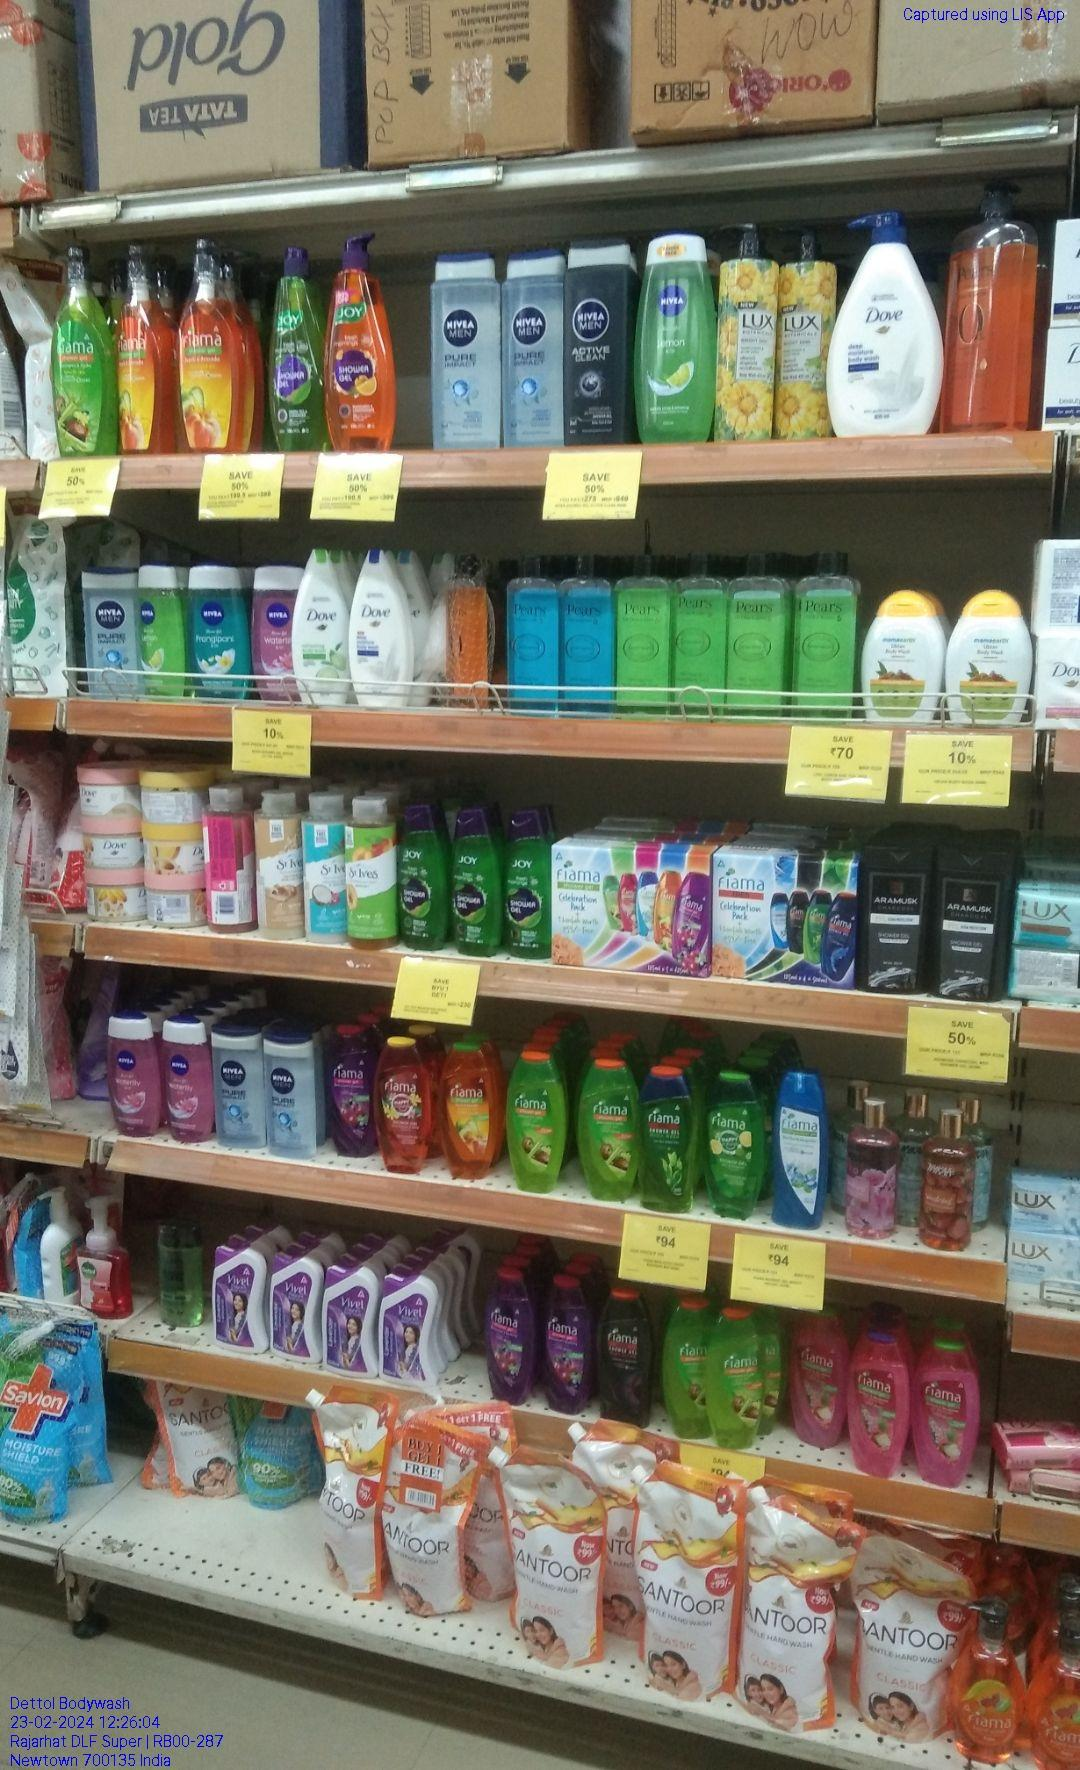Fiama_Shower_Gel_Lemongrass_and_Jojoba_250ML: (507, 1052, 563, 1193), (583, 1058, 635, 1202), (711, 1307, 764, 1448), (666, 1296, 708, 1439)
Fiama_Shower_Gel_Patchouli_and_Macadamia_250ML: (913, 1336, 975, 1487), (846, 1326, 902, 1480), (785, 1305, 841, 1444)
Fiama_Shower_Gel_Peach_and_Avocado_250ML: (441, 1039, 501, 1180)
Joy_Shower_Gel_Mint_and_Eucalyptus_250ML: (454, 803, 502, 957), (503, 805, 550, 958), (401, 796, 443, 949)
Nivea_Shower_Gel_Frangipani_and_Oil_250ML: (188, 563, 248, 700)
Nivea_Shower_Gel_Lemon_and_Oil_250ML: (634, 226, 708, 446), (142, 563, 183, 699)
Nivea_Shower_Gel_Waterlily_and_Oil_250ML: (249, 565, 297, 703), (105, 1018, 158, 1139), (161, 1018, 210, 1139)
Pears_Pure_Glycerin_and_Lemon_Flower_Extracts_Body_Wash_250ML: (793, 552, 855, 722), (726, 549, 782, 714), (617, 554, 672, 717), (674, 550, 725, 718)
Pears_Pure_Glycerin_and_Mint_Extracts_Body_Wash_250ML: (506, 550, 558, 716), (563, 558, 615, 708)
